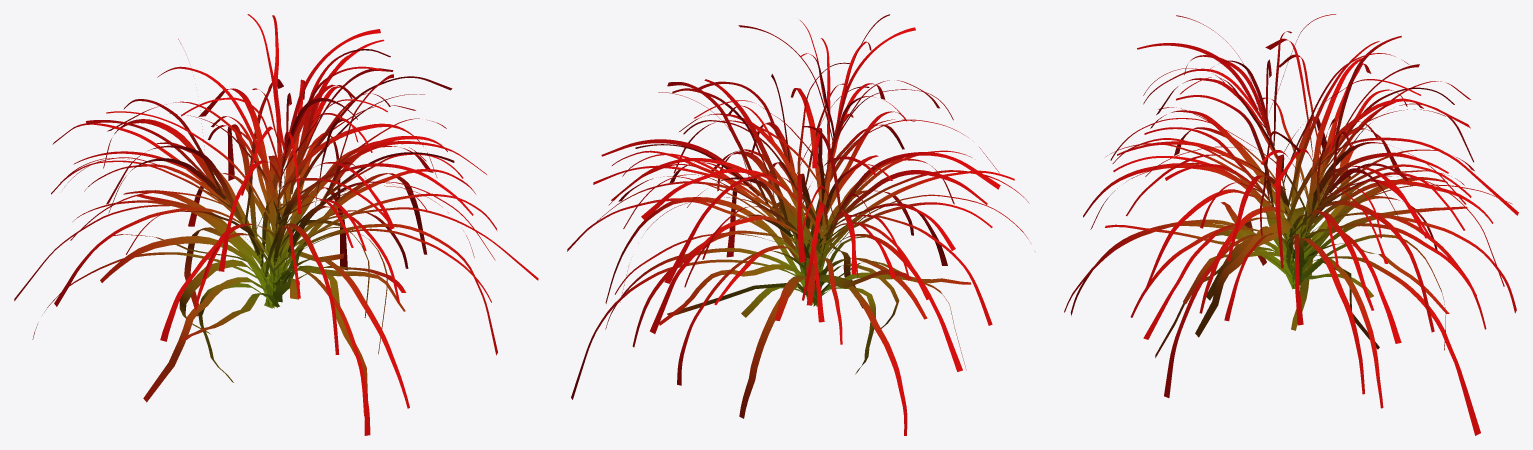
File: slglZ_Var6_LOD0.fbx
The picture shows the model from 3 angles, left to right: view 1: azimuth 30°, elevation 25°; view 2: azimuth 150°, elevation 25°; view 3: azimuth 270°, elevation 25°; orthographic projection. The views are drawn at different scales.
Parts seen in each view (by area): view 1: _7a2c_Var6_LOD0; view 2: _7a2c_Var6_LOD0; view 3: _7a2c_Var6_LOD0.
Boxes of the visible parts, left/top/right/bottom form: _7a2c_Var6_LOD0: left=14, top=14, right=538, bottom=435; _7a2c_Var6_LOD0: left=567, top=14, right=1030, bottom=435; _7a2c_Var6_LOD0: left=1064, top=14, right=1518, bottom=435.
Bounding box in the file's own units: 40.59 × 32.42 × 39.28.
